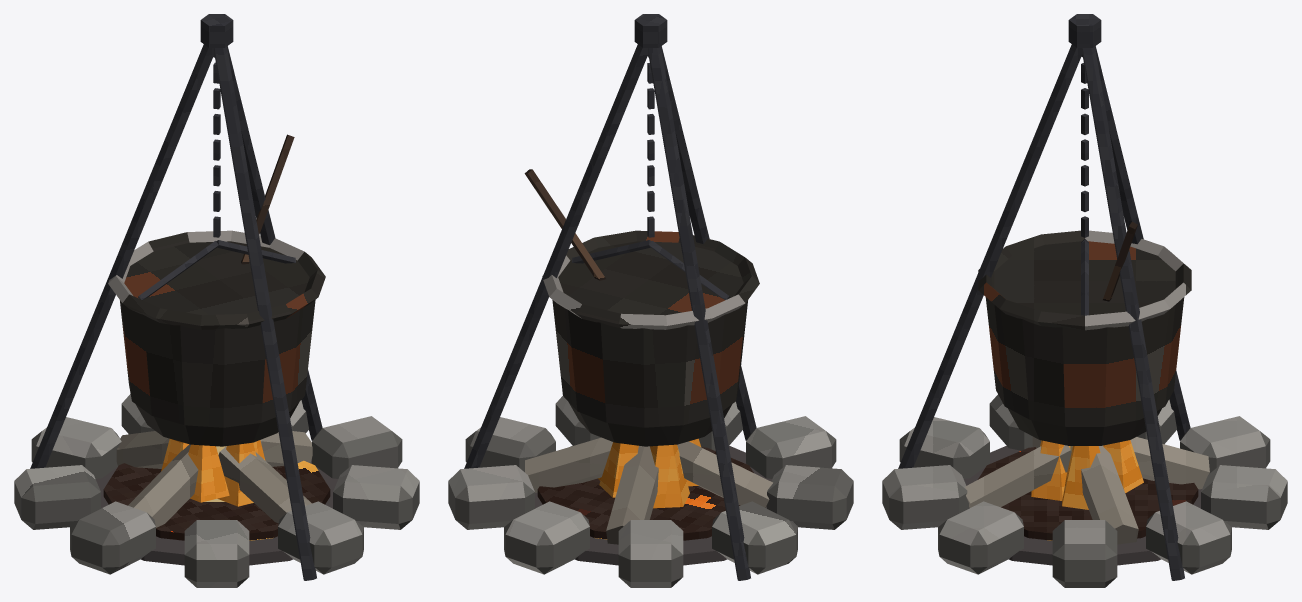
File: hearth_cauldron.obj
3 renders of one model, left to right at view 1: azimuth 30°, elevation 25°; view 2: azimuth 150°, elevation 25°; view 3: azimuth 270°, elevation 25°, orthographic.
Visible parts, largest first — view 1: hearth_cauldron; view 2: hearth_cauldron; view 3: hearth_cauldron.
Part boxes in pixels (left/top/right/bottom): hearth_cauldron: left=14, top=14, right=419, bottom=587; hearth_cauldron: left=448, top=14, right=853, bottom=587; hearth_cauldron: left=882, top=14, right=1287, bottom=587.
Bounding box in the file's own units: 0.9869 × 1.34 × 1.
